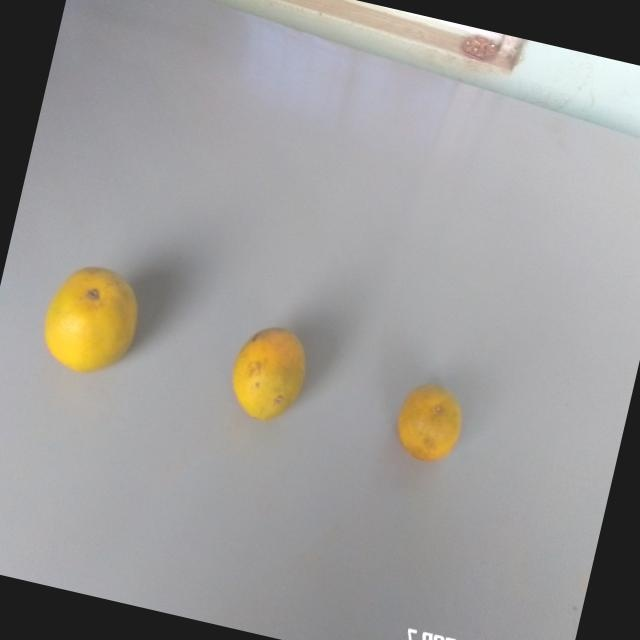agrume: (29, 255, 152, 387), (220, 310, 323, 434), (380, 373, 469, 476)
